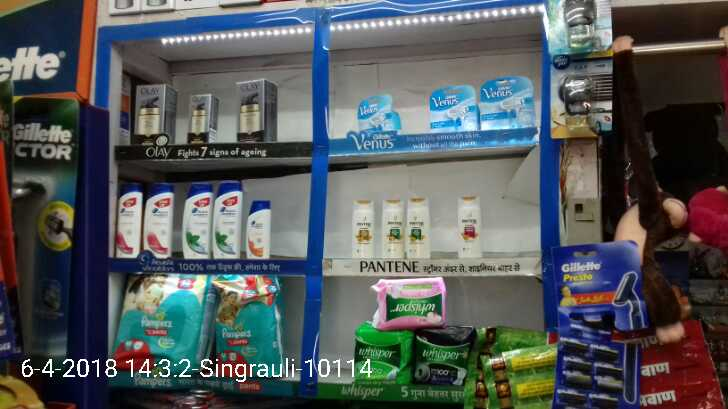ambipureVesus: (553, 59, 609, 139), (553, 1, 607, 56)
gillete: (1, 96, 78, 360), (558, 243, 641, 409)
venus: (482, 74, 533, 129), (429, 82, 478, 131), (358, 94, 396, 128)
